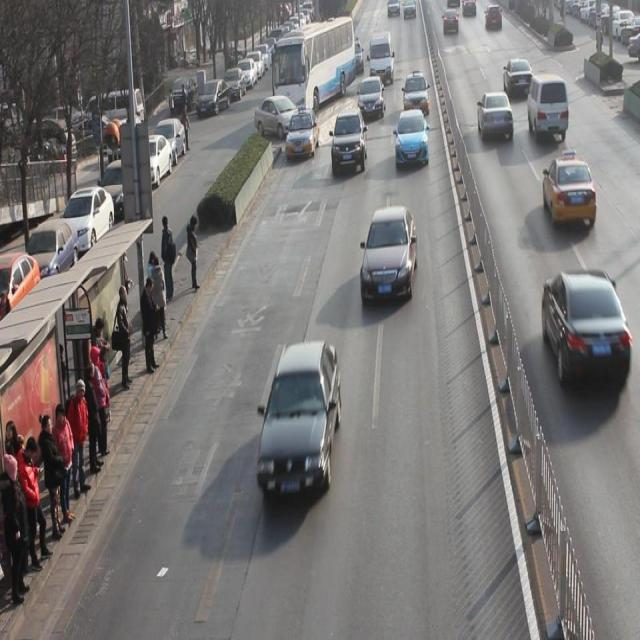car: (258, 339, 342, 499), (543, 270, 629, 389), (362, 205, 418, 302), (544, 156, 597, 228), (332, 108, 369, 176), (254, 94, 305, 143), (396, 109, 430, 168), (478, 90, 514, 142), (285, 109, 321, 160), (504, 58, 535, 102), (357, 75, 386, 119), (403, 72, 430, 116)
truck: (528, 71, 569, 144), (370, 31, 396, 86)
van: (274, 18, 356, 118)
